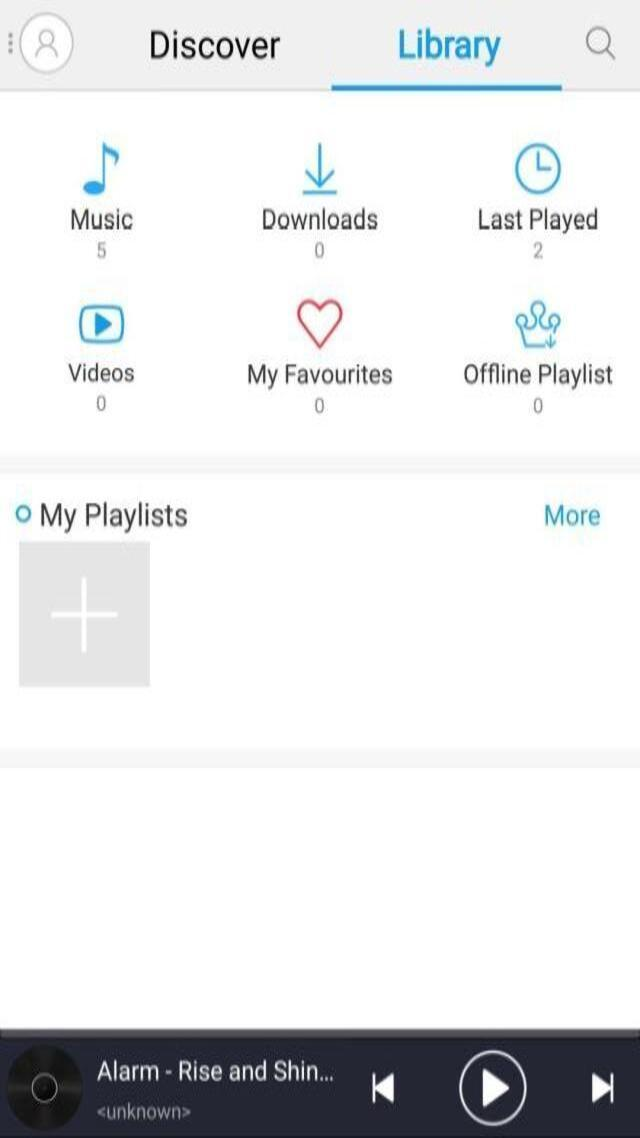Icon: (6, 1048, 82, 1130), (458, 1048, 533, 1126), (33, 498, 201, 532), (20, 10, 75, 72), (295, 138, 348, 202), (72, 140, 125, 203), (533, 493, 611, 535), (513, 296, 566, 354), (296, 288, 346, 349), (514, 140, 562, 195), (76, 299, 128, 349), (577, 19, 622, 62), (578, 1069, 622, 1108), (364, 1072, 404, 1110), (13, 499, 32, 528)
Text: (94, 1054, 335, 1086), (461, 357, 624, 391), (244, 357, 396, 390), (469, 201, 604, 235), (256, 206, 386, 238), (66, 206, 138, 237), (69, 362, 136, 389), (523, 393, 558, 421), (308, 393, 338, 419), (90, 390, 116, 416), (88, 238, 114, 263), (310, 238, 326, 263), (531, 238, 546, 262)
TextButton: (15, 537, 151, 681), (141, 24, 288, 69), (387, 25, 507, 72)
